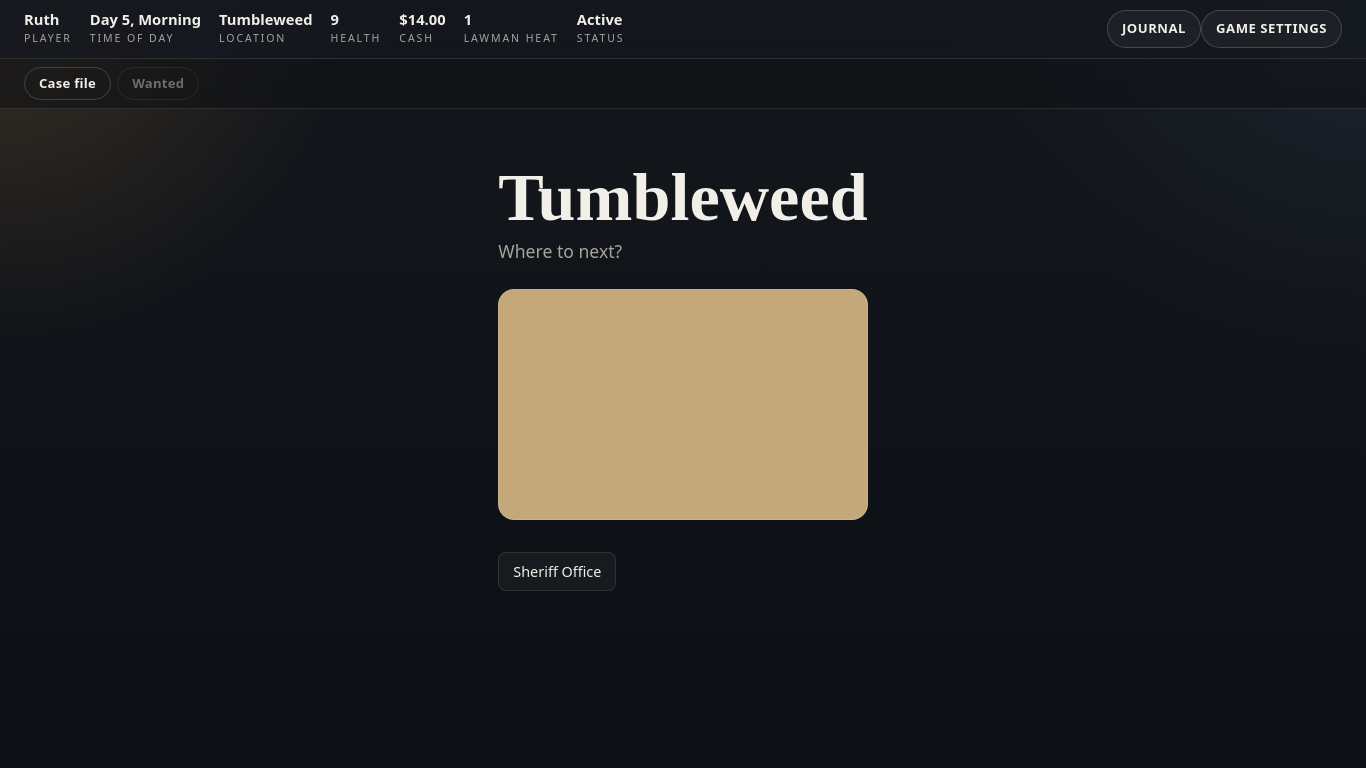
Test: Start Over confirmation › leaves session state unchanged when Cancel is clicked
Click the button "Game Settings" at (1272, 29), box [1201,10,1342,48]
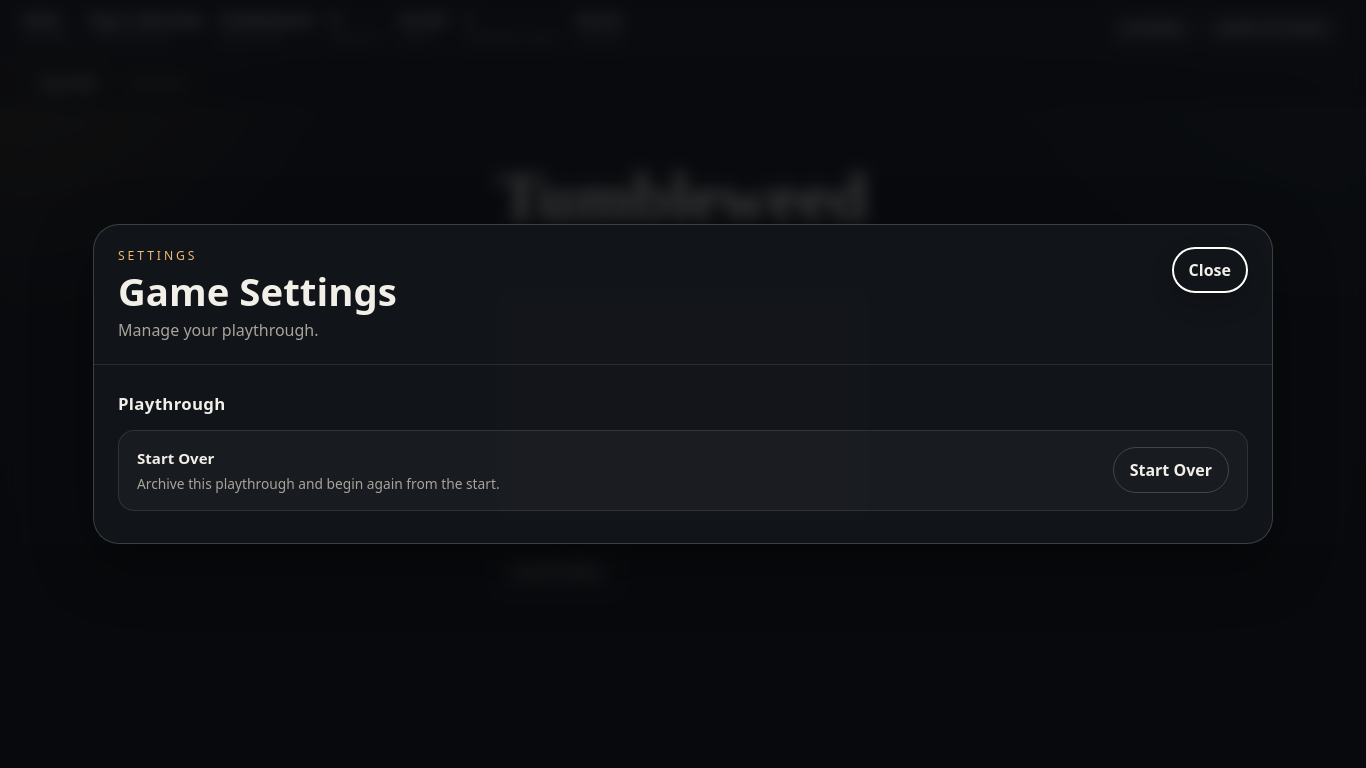
Click the button "Start Over" at (1171, 470), box [1113,447,1229,493]
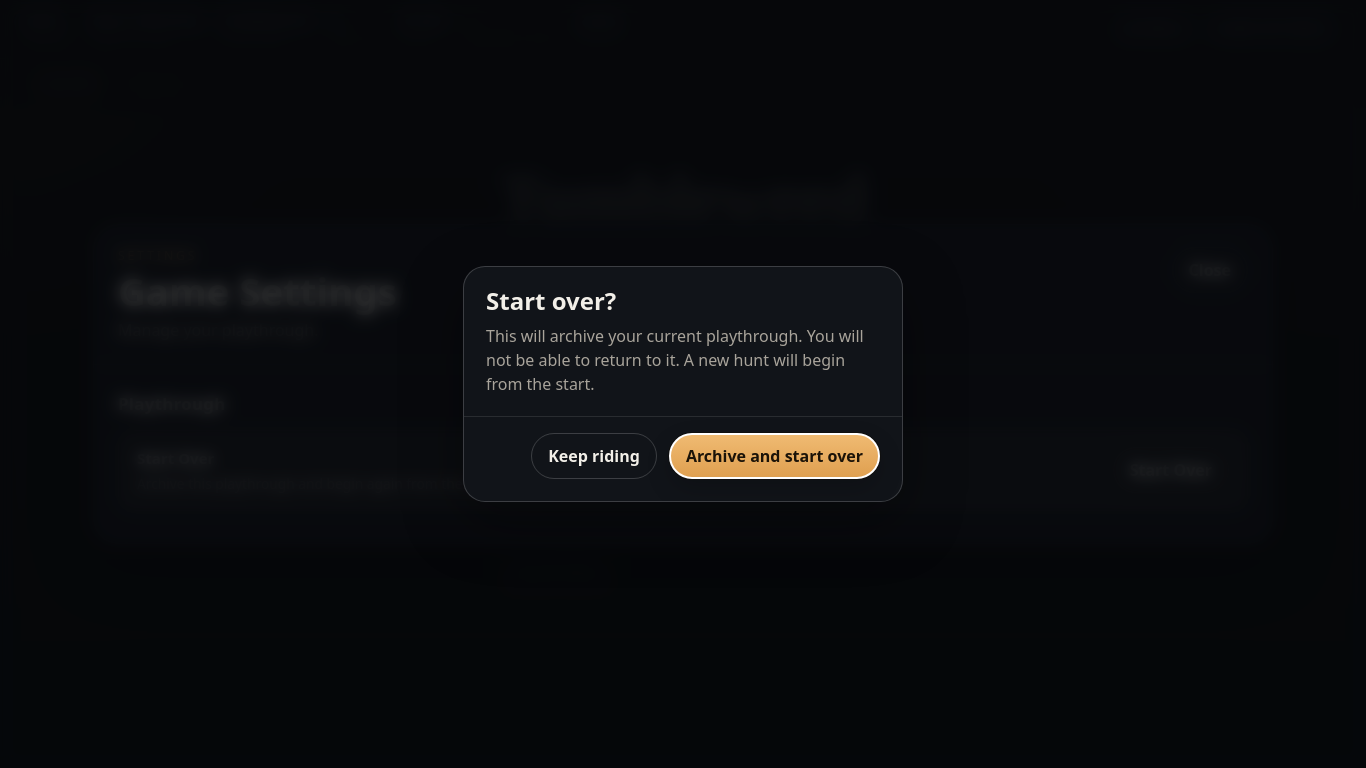
Click the button "Keep riding" at (594, 456), box [531,433,657,479]
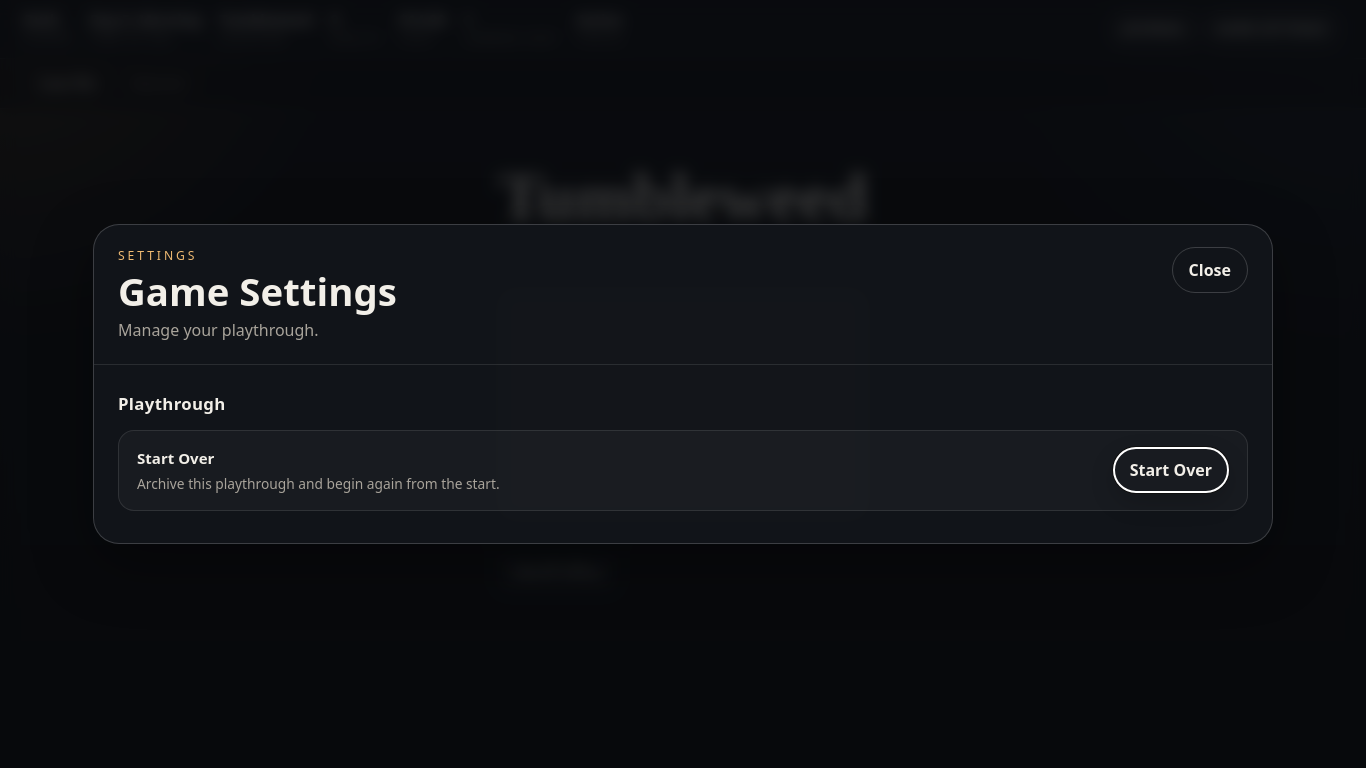
Now the dialog "Game Settings" is shown, box [93,224,1273,544]
Now the heading "Start over?" is gone
